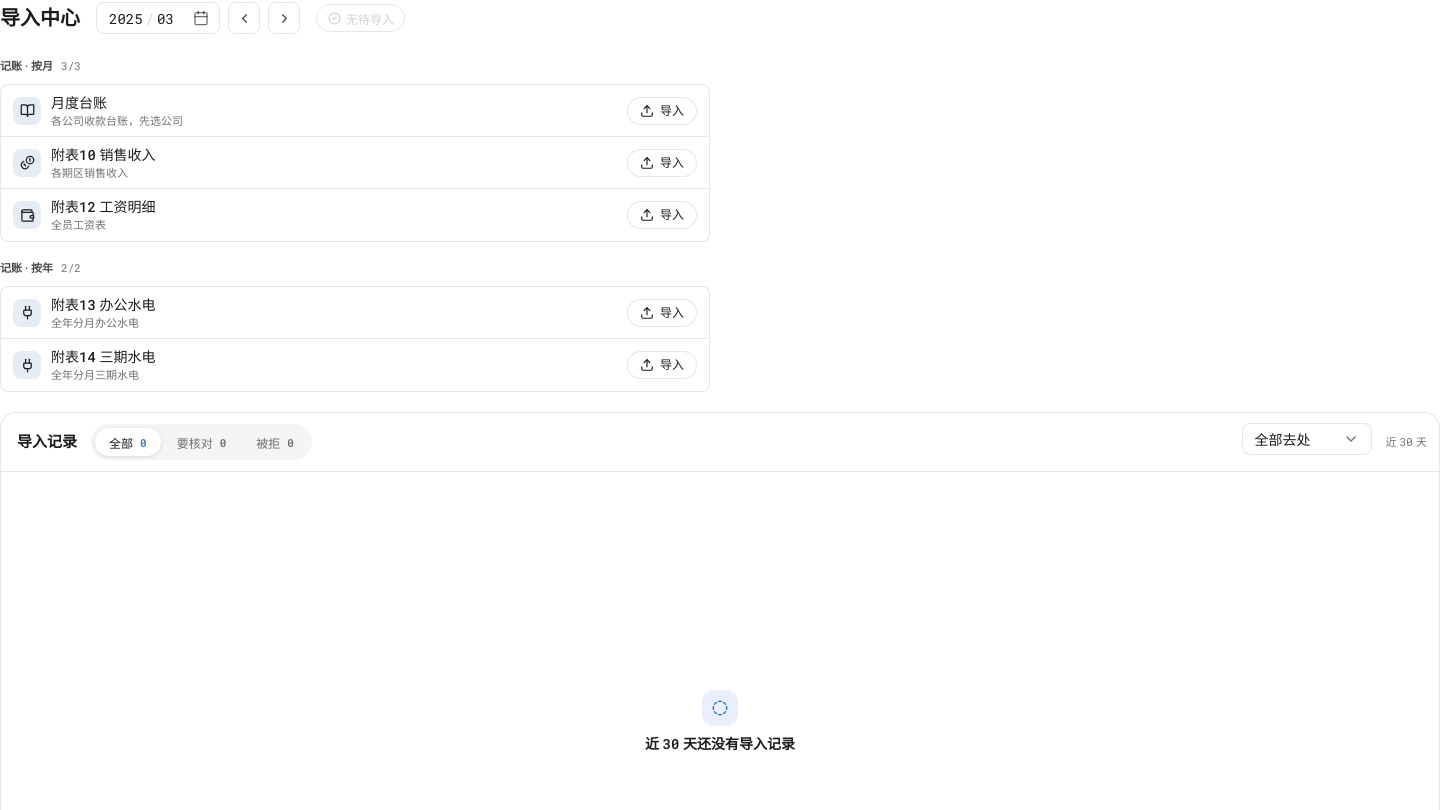
导入中心 · 期间深链预填 › ❗?p=2025-03&co=12:页头是 2025-03,台账小窗缺省乙公司、同一个月 —— openImport 的重置也不丢
The image size is (1440, 810).
Click the button "导入" in the row of "各公司收款台账，先选公司".
click(662, 110)  # box [627,96,697,124]
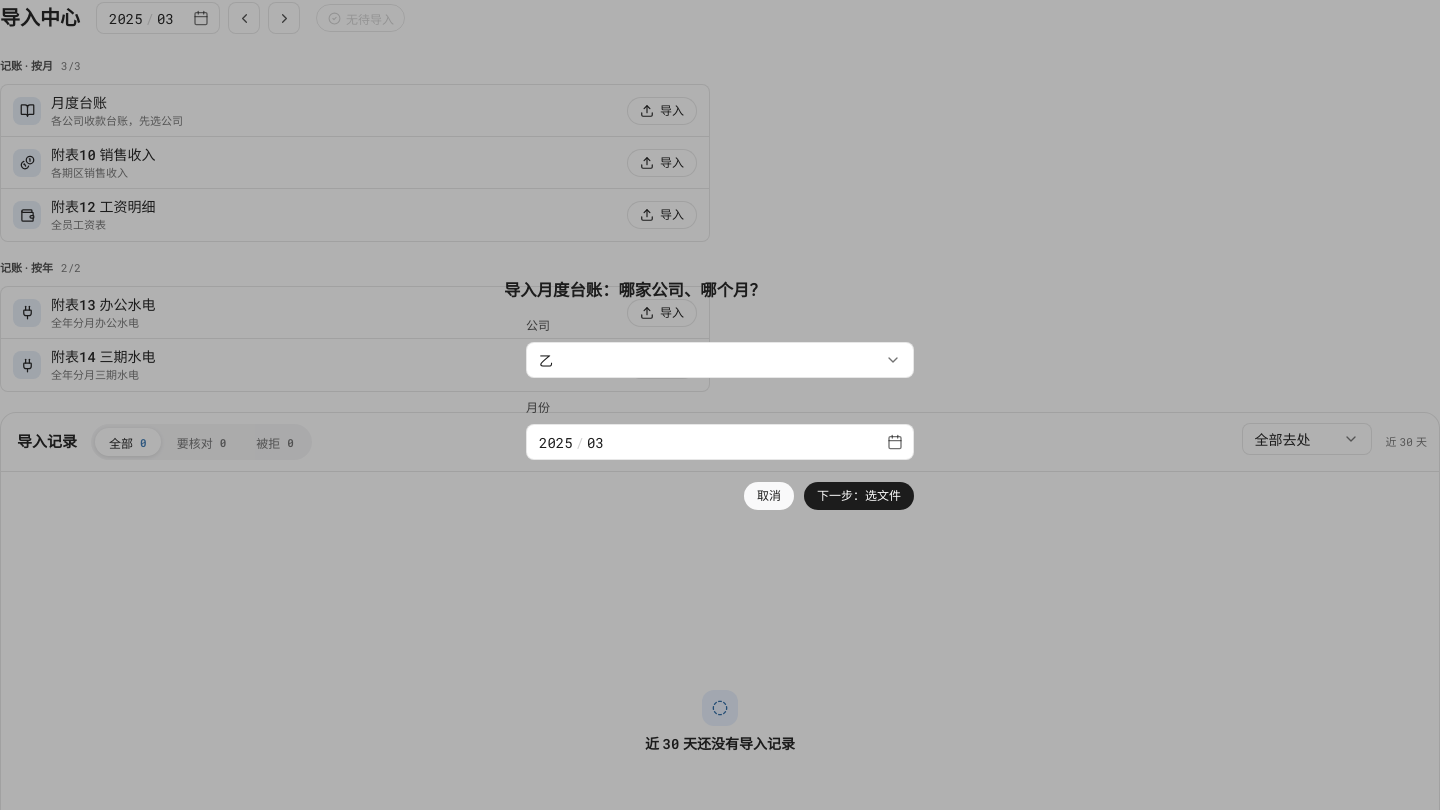
Expected: the dialog with class "ix-dlg" is shown, [504,280,936,530]
